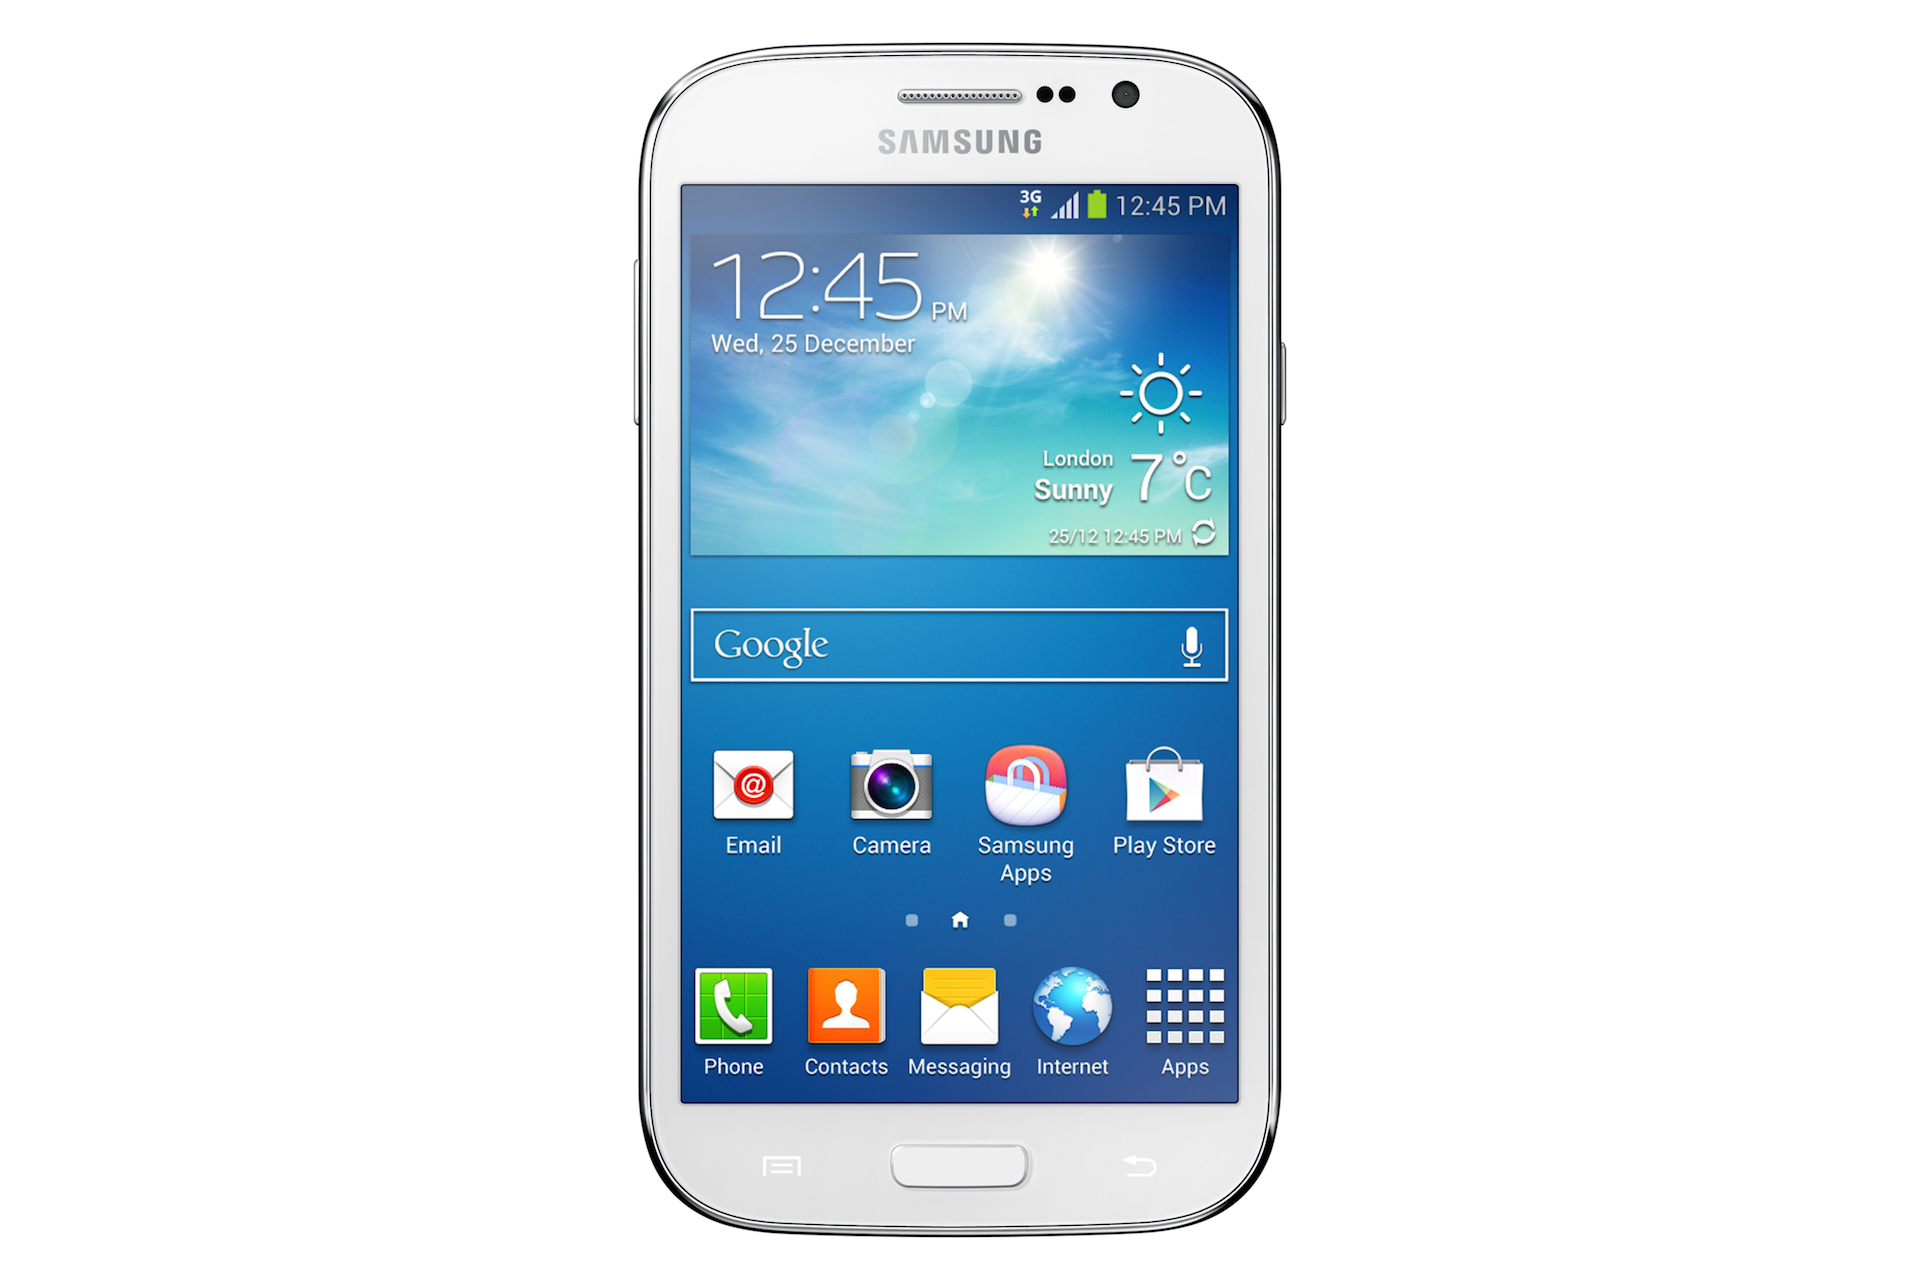smartphone: (629, 39, 1294, 1241)
